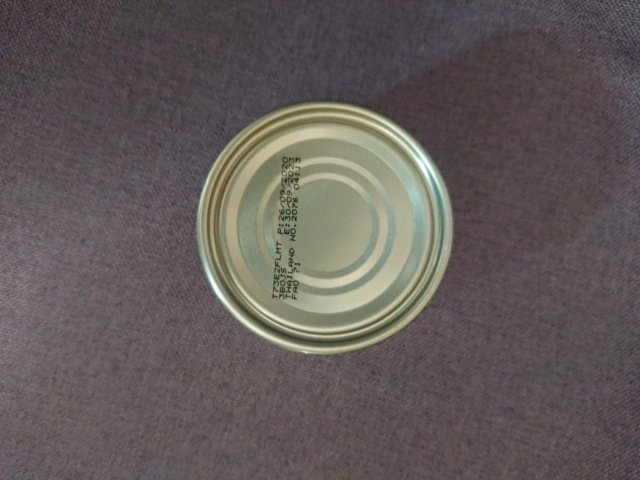Giana Tuna Salad Mexico 185g: (191, 96, 457, 360)
